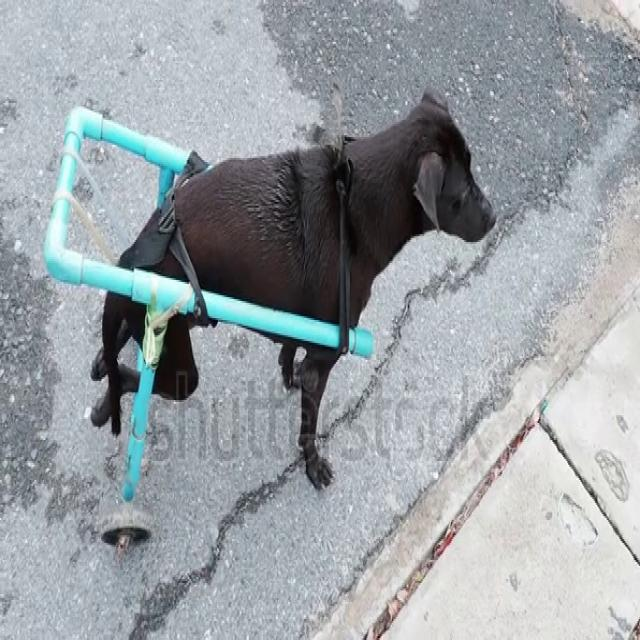normal_animals: (85, 84, 499, 497)
